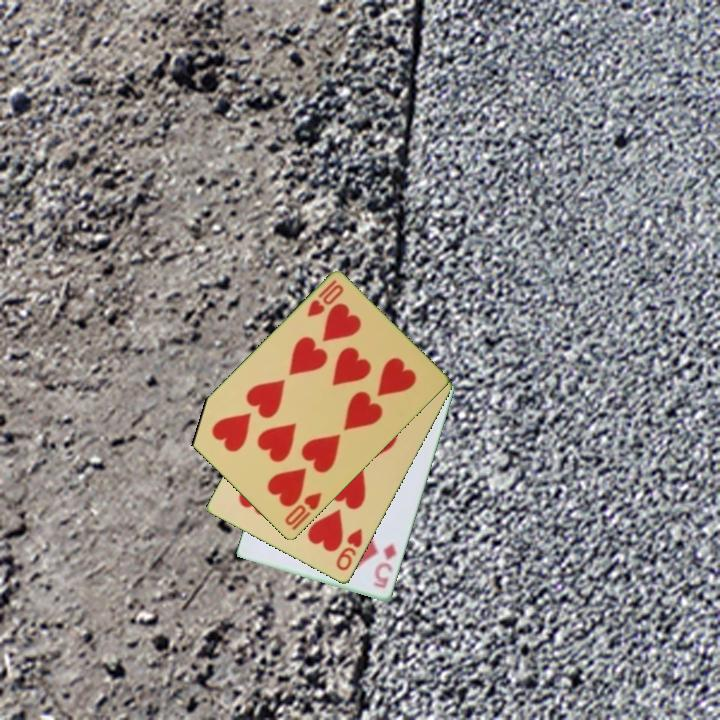10h: (281, 489, 325, 534), (303, 276, 347, 321)
5d: (370, 539, 399, 592)
9h: (332, 525, 366, 574)
